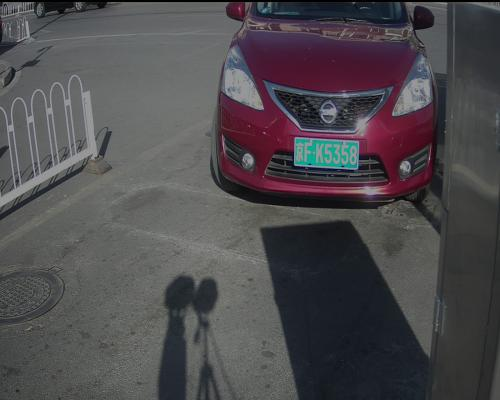Carplate: (289, 130, 365, 176)
